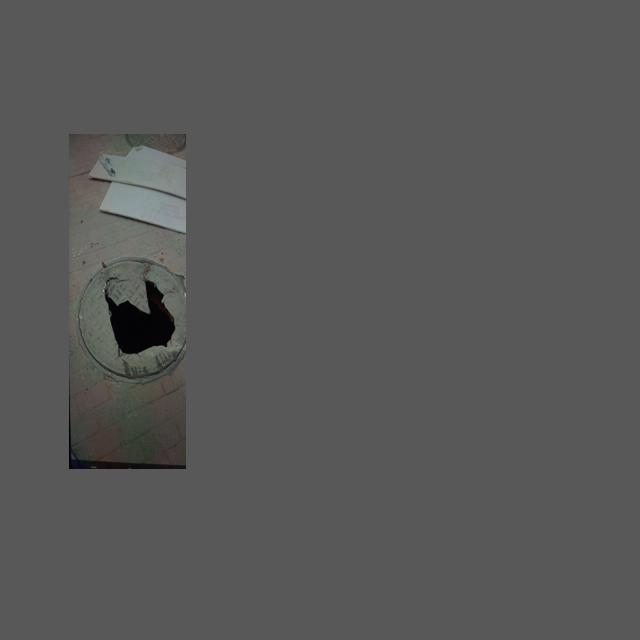broke: (75, 257, 185, 384)
